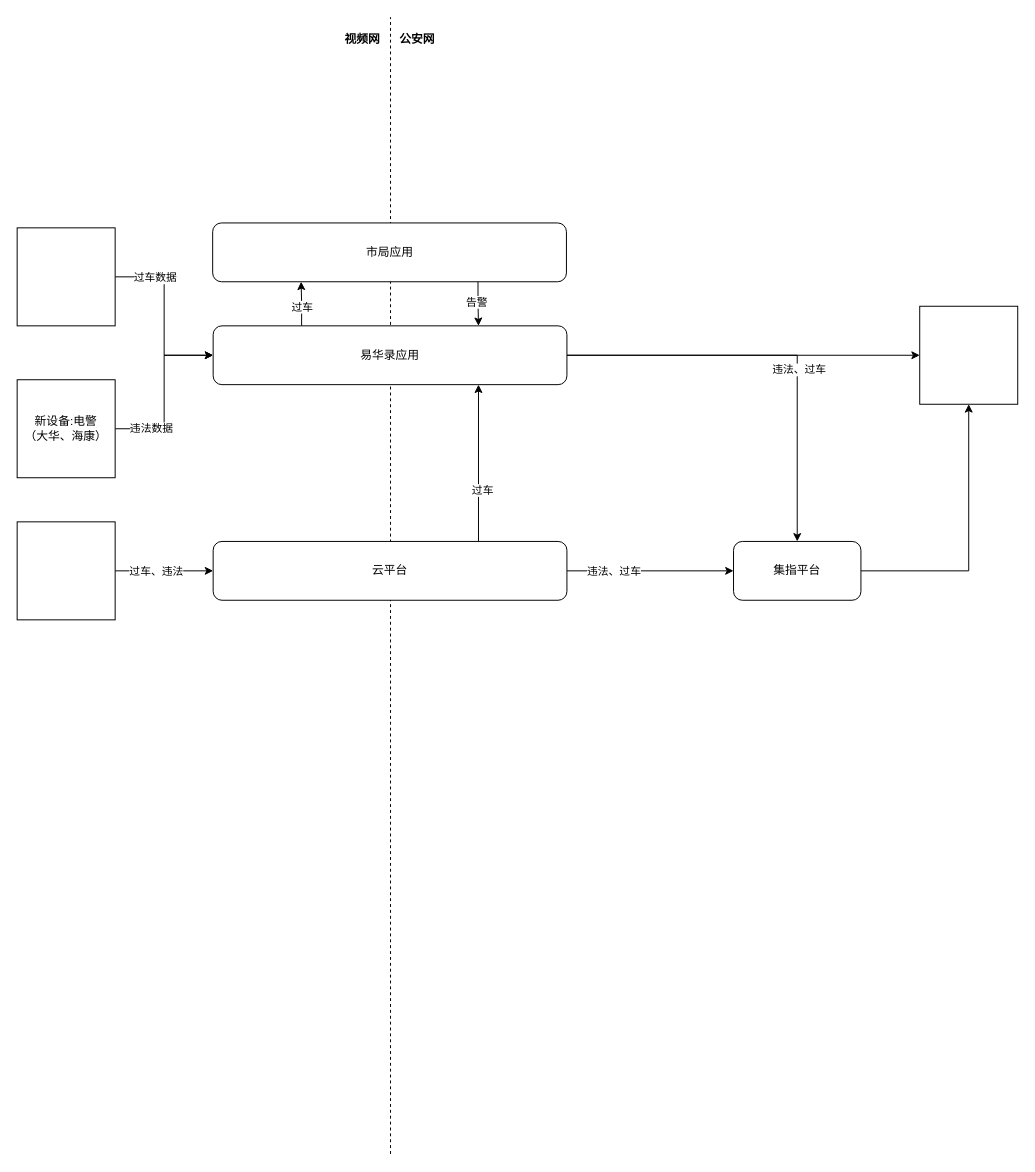
Some shapes in this 1035 by 1172 pixel diagram are drawn without their labels. The centre of each missing label's shape, as x and y in pixels:
新设备:卡口 （大华、海康）: the point at 65,276
旧设备 （大华）: the point at 65,570
用户: the point at 968,354
